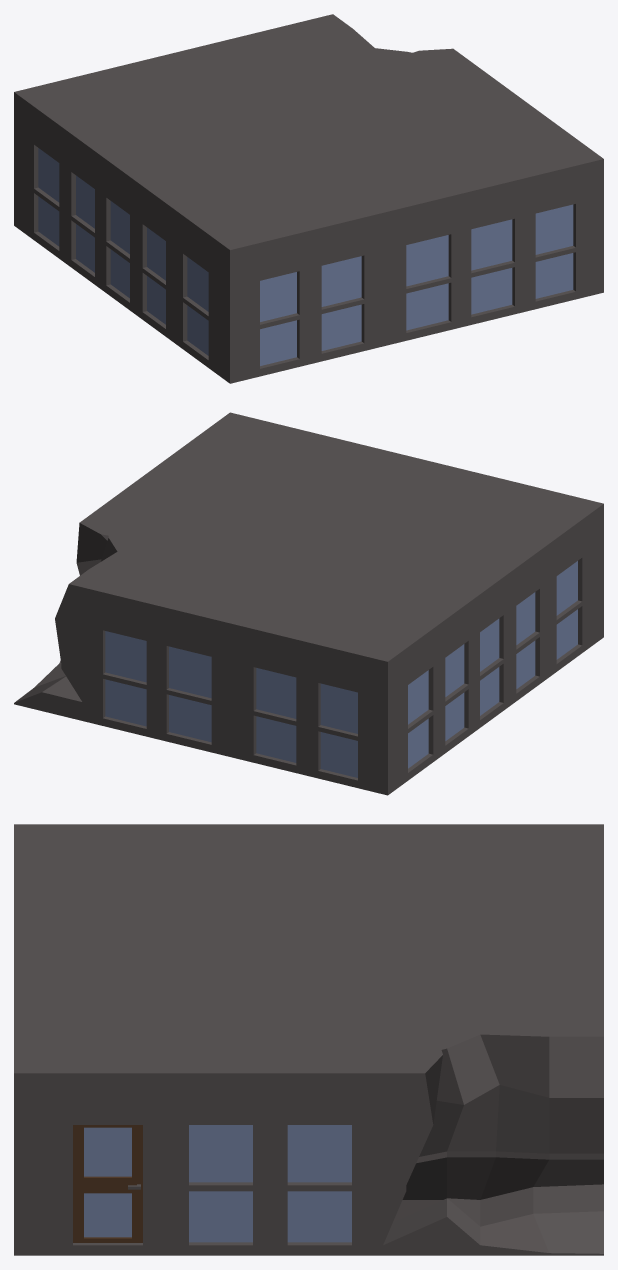
The model's file is Building Damaged 1.fbx.
3 views of the same model, one above another, from view 1: azimuth 30°, elevation 25°; view 2: azimuth 150°, elevation 25°; view 3: azimuth 270°, elevation 25° (orthographic). The views are drawn at different scales.
Visible parts, largest first — view 1: pCube2; view 2: pCube2; view 3: pCube2.
Boxes of the visible parts, x1=… form: pCube2: x1=14, y1=14, x2=603, y2=383; pCube2: x1=14, y1=412, x2=603, y2=795; pCube2: x1=14, y1=824, x2=603, y2=1255.
Size of the model in its own units: 9.99 by 3.41 by 10.
